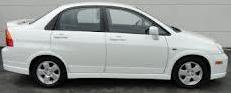backlight: (1, 24, 18, 47)
side_glass: (55, 7, 157, 32)
